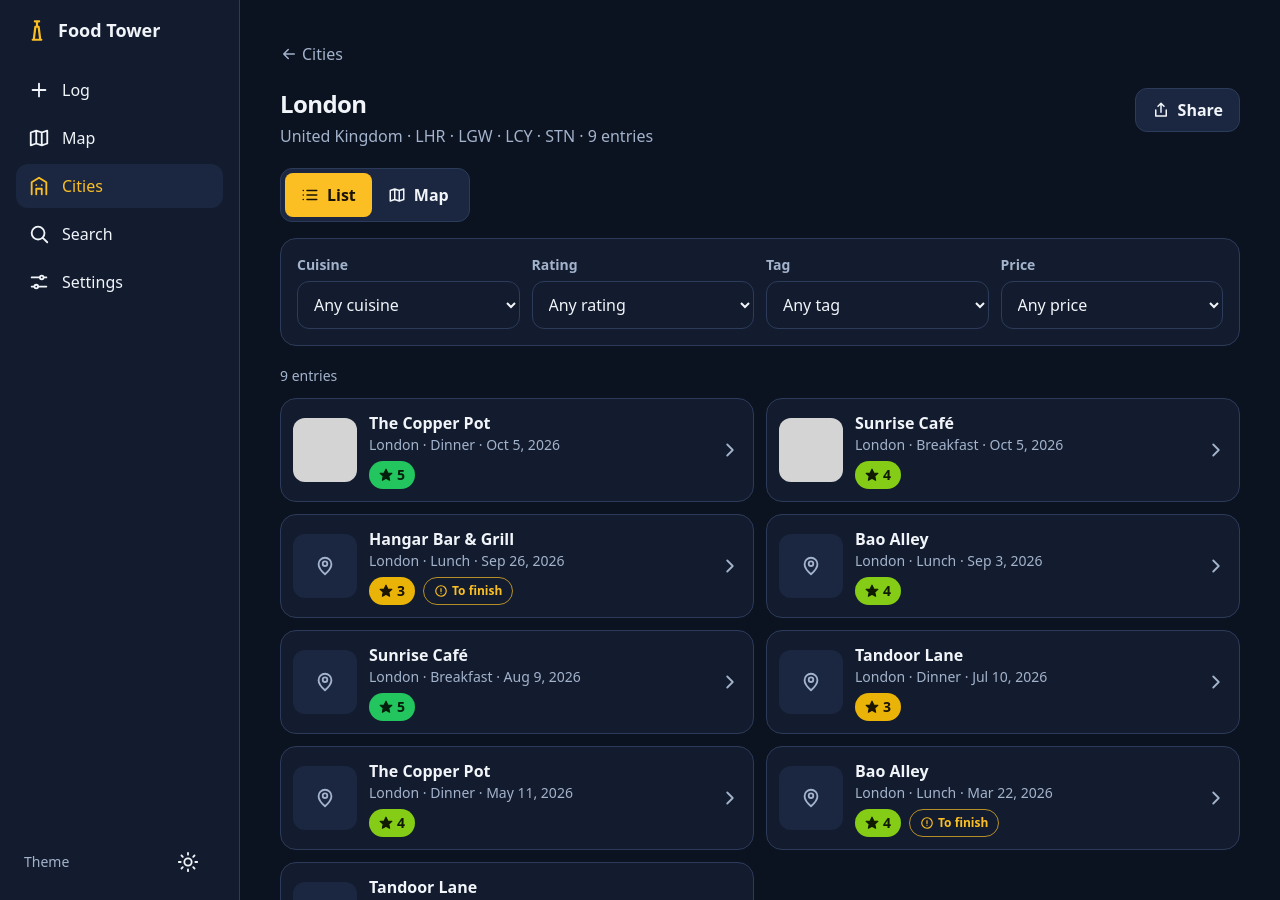
Scenario: City view › shows an empty state when filters match nothing
expect the heading "London" is shown: met, box [280,87,366,120]
Select "$$$$ · Splurge" in the dropdown labelled "Price". click: (1112, 305)
box: [1000,281,1223,329]
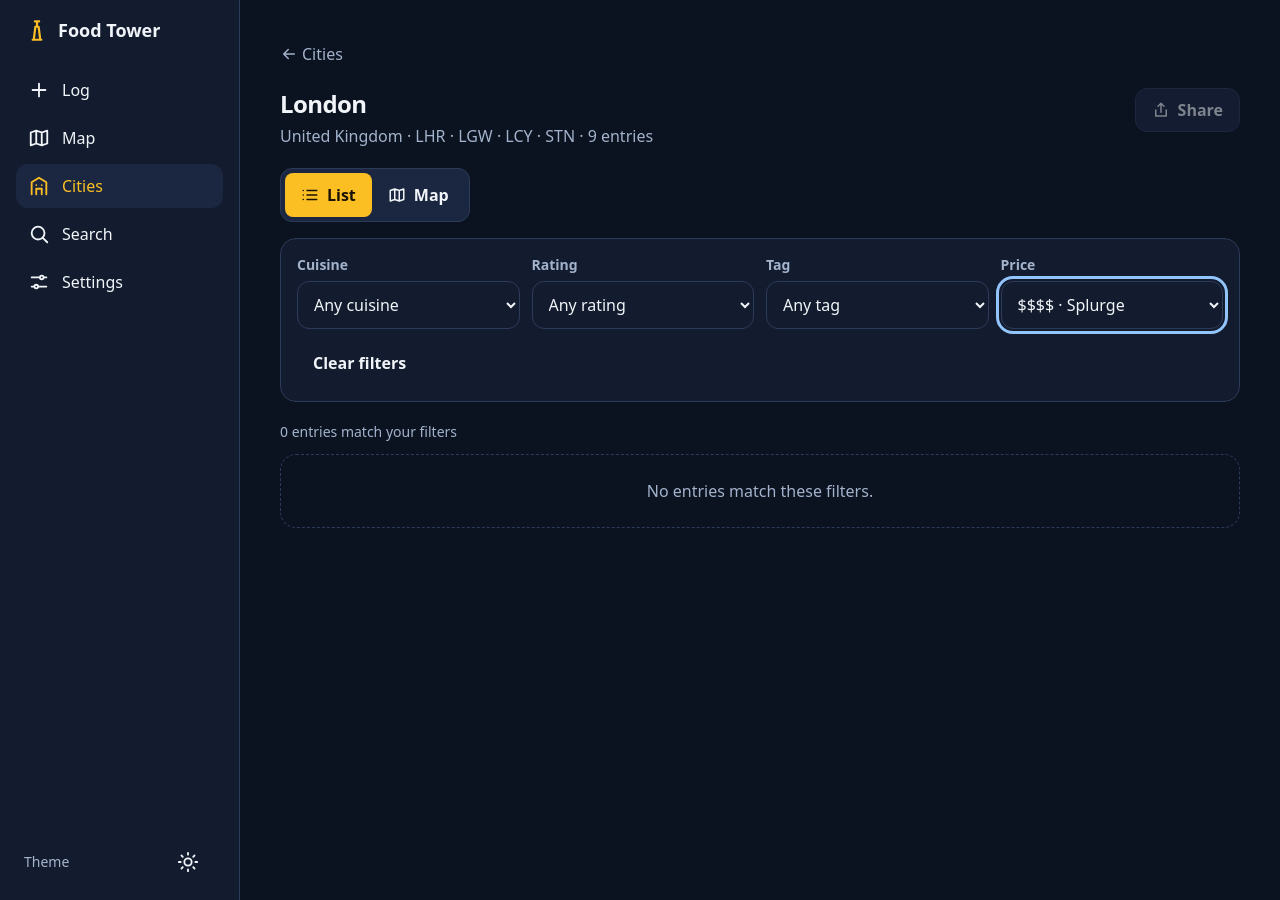
expect the text "No entries match these filters." is shown: met, box [280,454,1240,528]
